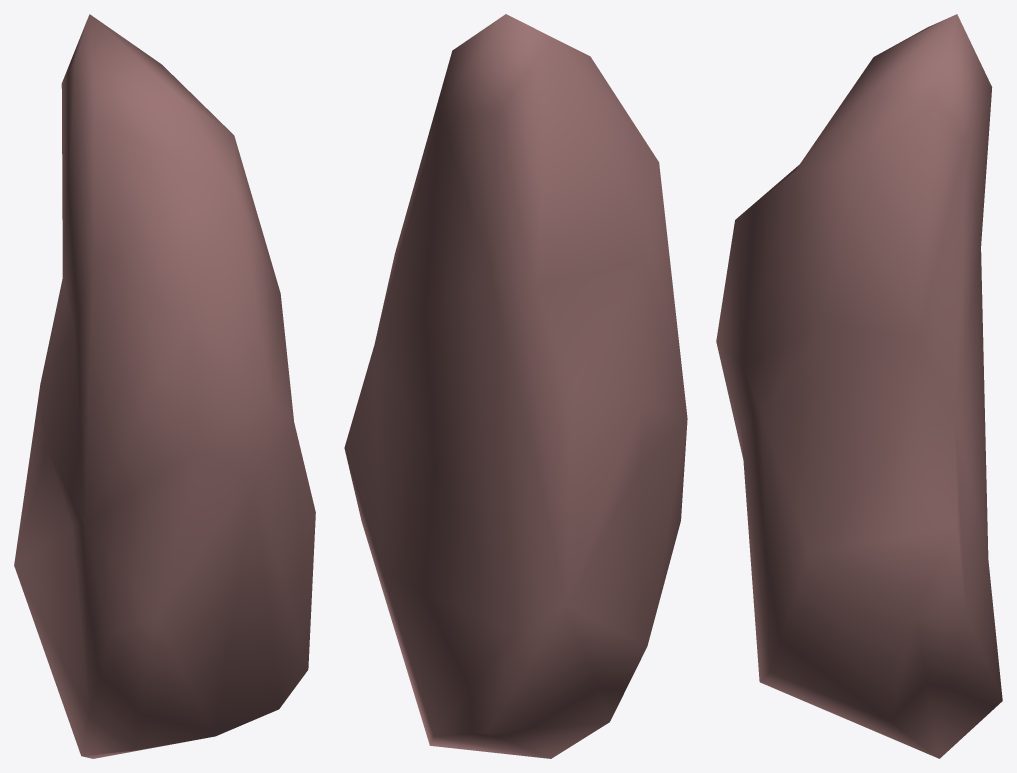
File: small_rock_02.fbx
3 views of the same model, side by side, from view 1: azimuth 30°, elevation 25°; view 2: azimuth 150°, elevation 25°; view 3: azimuth 270°, elevation 25° (orthographic). The views are drawn at different scales.
Visible parts, largest first — view 1: small_rock_02; view 2: small_rock_02; view 3: small_rock_02.
Boxes of the visible parts, bbox=[...] form: small_rock_02: bbox=[14, 14, 315, 758]; small_rock_02: bbox=[344, 14, 687, 758]; small_rock_02: bbox=[716, 14, 1002, 758].
Bounding box in the file's own units: 34.5 × 96.38 × 35.44.
